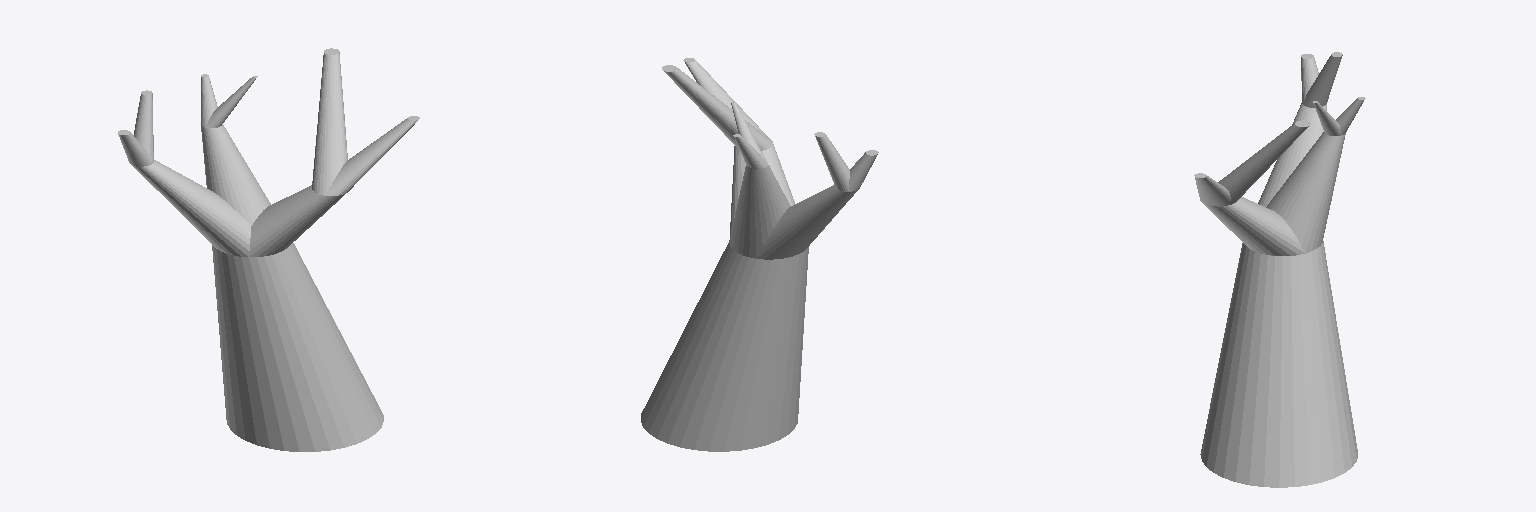
The model's file is Baum1.obj.
3 views of the same model, side by side, from view 1: azimuth 30°, elevation 25°; view 2: azimuth 150°, elevation 25°; view 3: azimuth 270°, elevation 25° (orthographic).
Bounding box in the file's own units: 3.61 × 4.88 × 2.17.